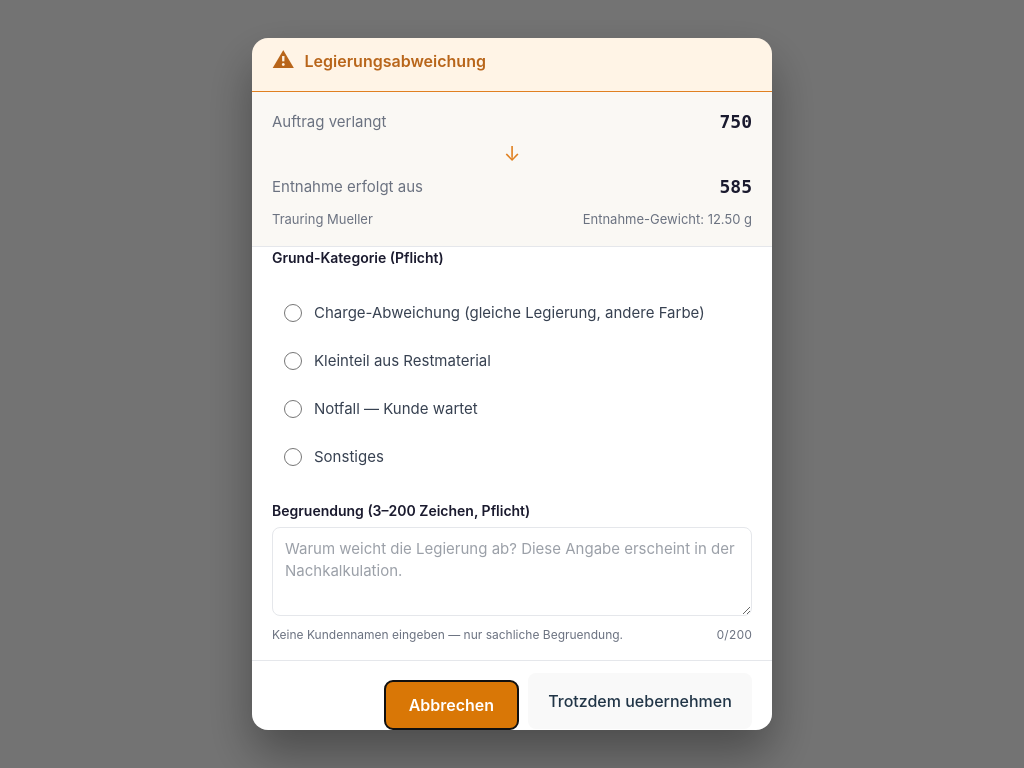
AlloyMismatchModal validation › character counter updates and caps at 200
Step 1. Type "Restmaterial" into the text box with test id "alloy-reason-textarea" → (512, 572), box [272, 527, 752, 616]
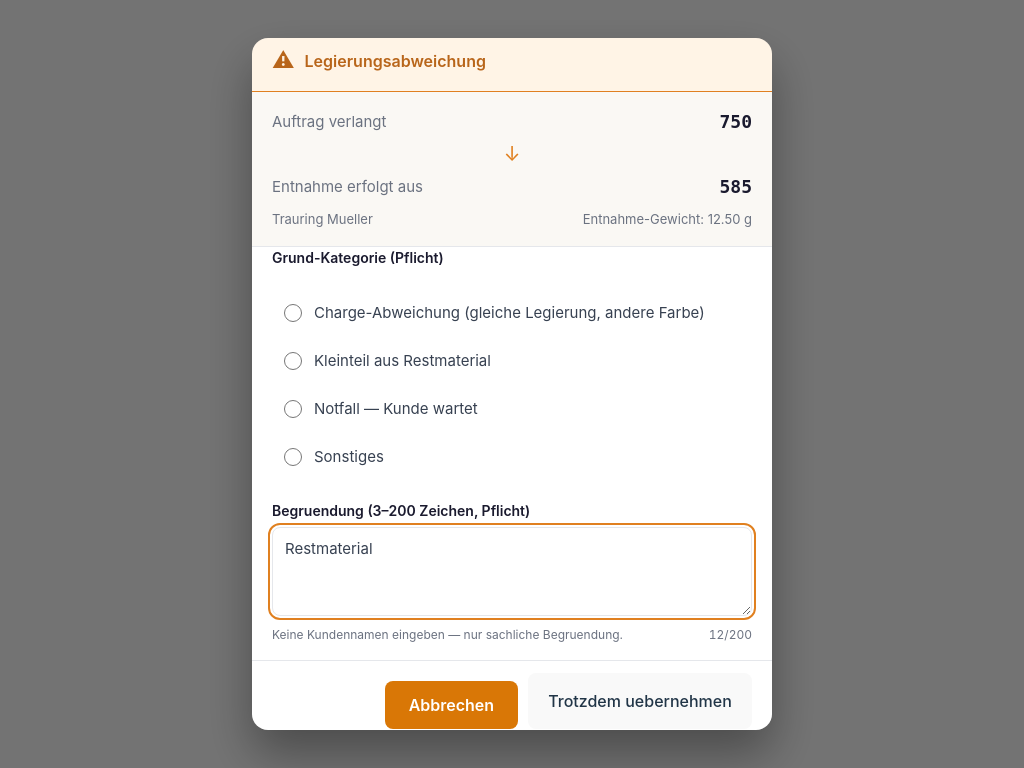
Expected: the text with test id "alloy-reason-counter" reads "12/200", [709, 626, 752, 644]
